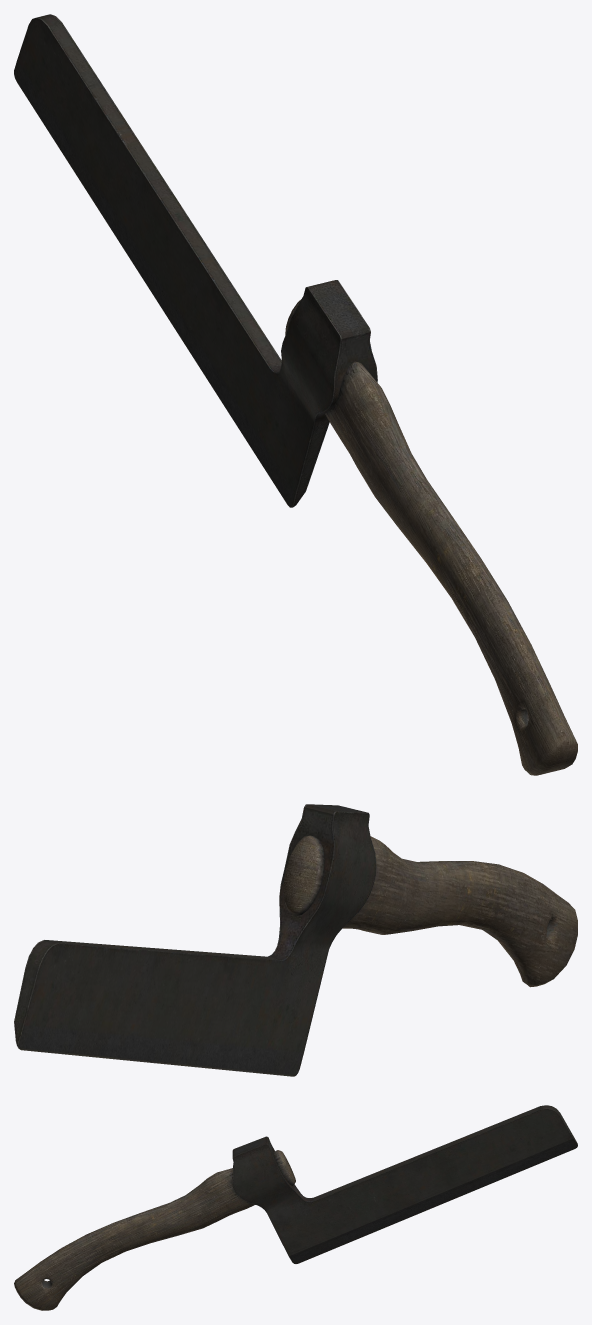
File: froe.glb
3 renders of one model, top to bottom at view 1: azimuth 30°, elevation 25°; view 2: azimuth 150°, elevation 25°; view 3: azimuth 270°, elevation 25°, orthographic. The views are drawn at different scales.
Parts seen in each view (by area): view 1: Plane_Axe.001_0, Circle_Axe.001_0; view 2: Plane_Axe.001_0, Circle_Axe.001_0; view 3: Plane_Axe.001_0, Circle_Axe.001_0.
Part boxes in pixels (bbox=[...]): Plane_Axe.001_0: bbox=[14, 14, 377, 507]; Circle_Axe.001_0: bbox=[285, 299, 577, 775]; Plane_Axe.001_0: bbox=[14, 804, 376, 1076]; Circle_Axe.001_0: bbox=[283, 835, 577, 987]; Plane_Axe.001_0: bbox=[232, 1105, 577, 1263]; Circle_Axe.001_0: bbox=[14, 1150, 295, 1310].
Bounding box in the file's own units: 0.0322 × 0.275 × 0.6959.
1 material, 1 textured.
